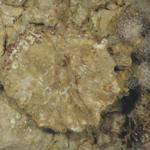dead: (5, 4, 143, 149)
